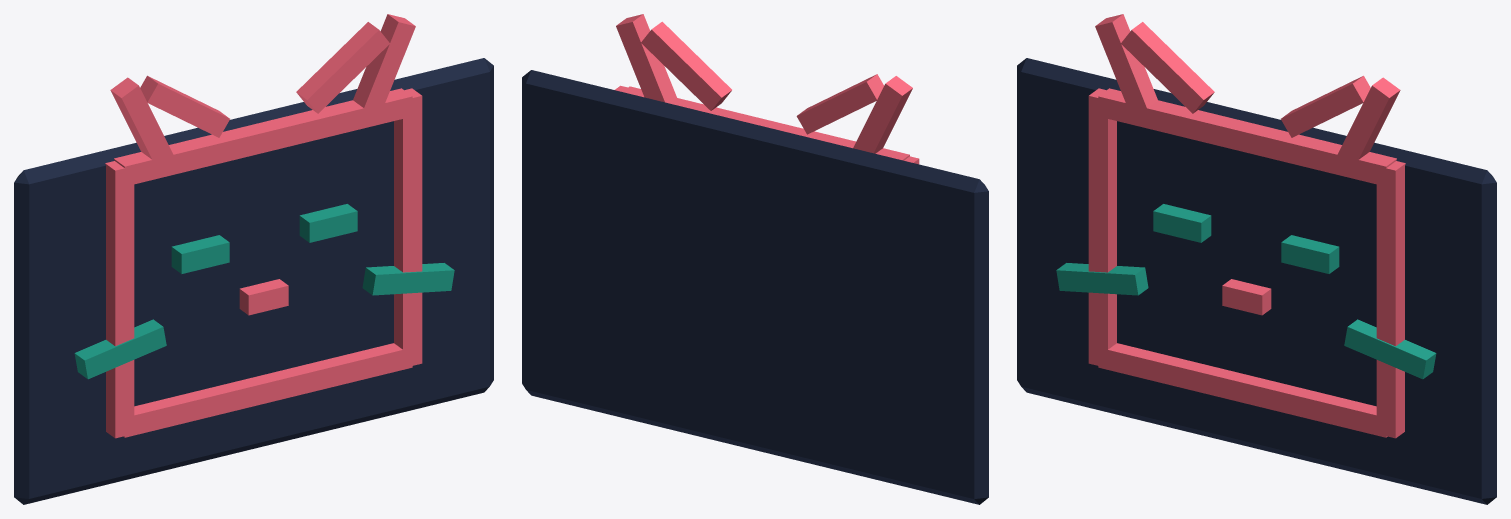
The model's file is CatCafe_Decor_NeonSign.glb.
3 renders of one model, left to right at view 1: azimuth 30°, elevation 25°; view 2: azimuth 150°, elevation 25°; view 3: azimuth 330°, elevation 25°, orthographic. The views are drawn at different scales.
Visible parts, largest first — view 1: CatCafe_Decor_NeonSign_Board, CatCafe_Decor_NeonSign_Tube; view 2: CatCafe_Decor_NeonSign_Board, CatCafe_Decor_NeonSign_Tube; view 3: CatCafe_Decor_NeonSign_Board, CatCafe_Decor_NeonSign_Tube.
Boxes of the visible parts, left/top/right/bottom form: CatCafe_Decor_NeonSign_Board: left=14, top=58, right=493, bottom=504; CatCafe_Decor_NeonSign_Tube: left=74, top=14, right=454, bottom=438; CatCafe_Decor_NeonSign_Board: left=522, top=70, right=988, bottom=504; CatCafe_Decor_NeonSign_Tube: left=615, top=14, right=919, bottom=164; CatCafe_Decor_NeonSign_Board: left=1017, top=58, right=1496, bottom=504; CatCafe_Decor_NeonSign_Tube: left=1056, top=14, right=1436, bottom=438.
Bounding box in the file's own units: 3 × 2.42 × 0.23.
1 material, 1 textured.
